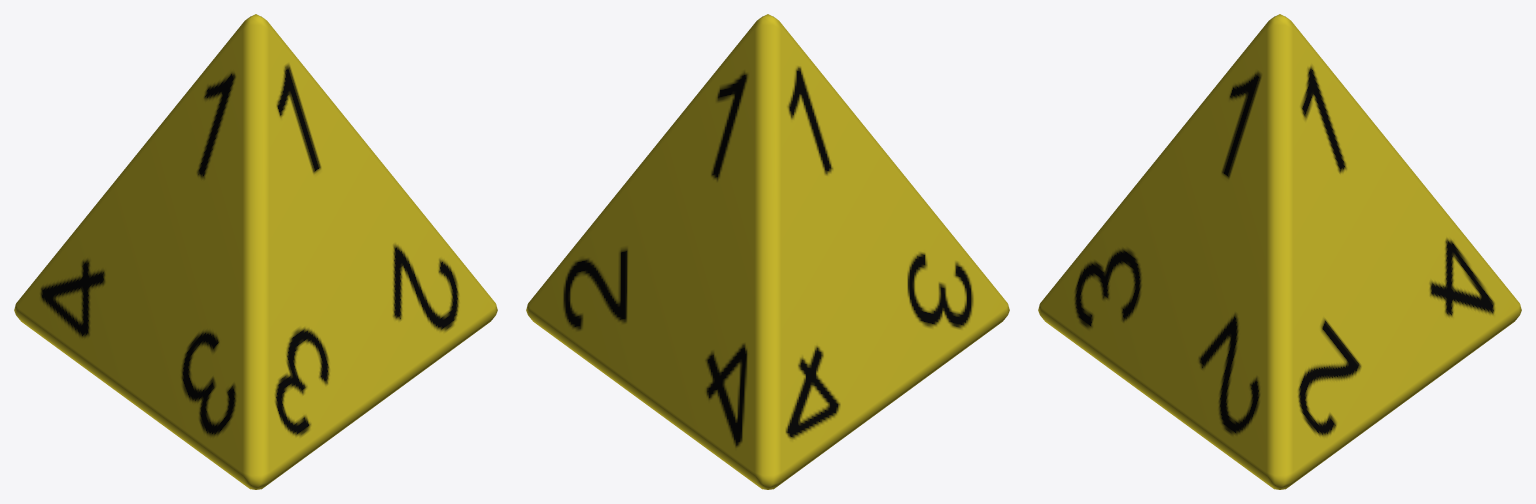
3 views of the same model, side by side, from view 1: azimuth 30°, elevation 25°; view 2: azimuth 150°, elevation 25°; view 3: azimuth 270°, elevation 25° (orthographic).
Visible parts, largest first — view 1: Object_2; view 2: Object_2; view 3: Object_2.
Part boxes in pixels (x1,y1,x2,y2): Object_2: (14, 14, 497, 489); Object_2: (526, 14, 1009, 489); Object_2: (1038, 14, 1521, 489).
Size of the model in its own units: 2.23 by 2.12 by 2.56.
1 material, 1 textured.
